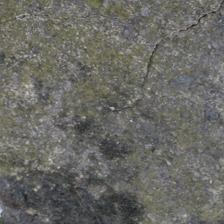Crack: (55, 4, 160, 104)
